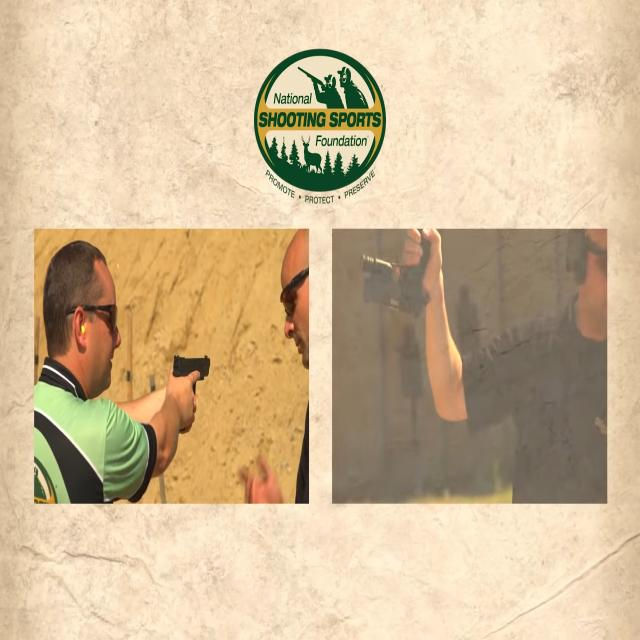Gun_Holder: (368, 219, 439, 328), (146, 332, 215, 428)
Person: (414, 216, 614, 507), (32, 228, 200, 507), (248, 230, 316, 508)
